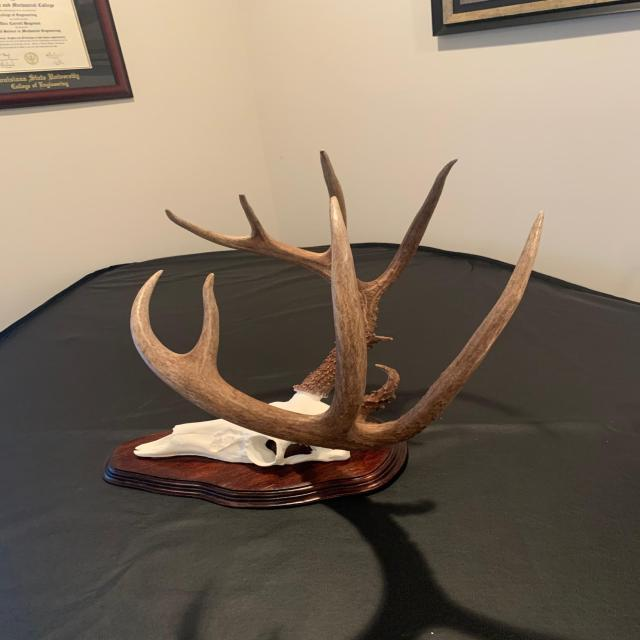L-G2: (373, 210, 545, 445)
L-G3: (318, 195, 368, 430)
L-G4: (185, 273, 220, 372)
R-G1: (369, 334, 393, 344)
R-G2: (367, 159, 458, 305)
R-G4: (239, 194, 274, 239)
